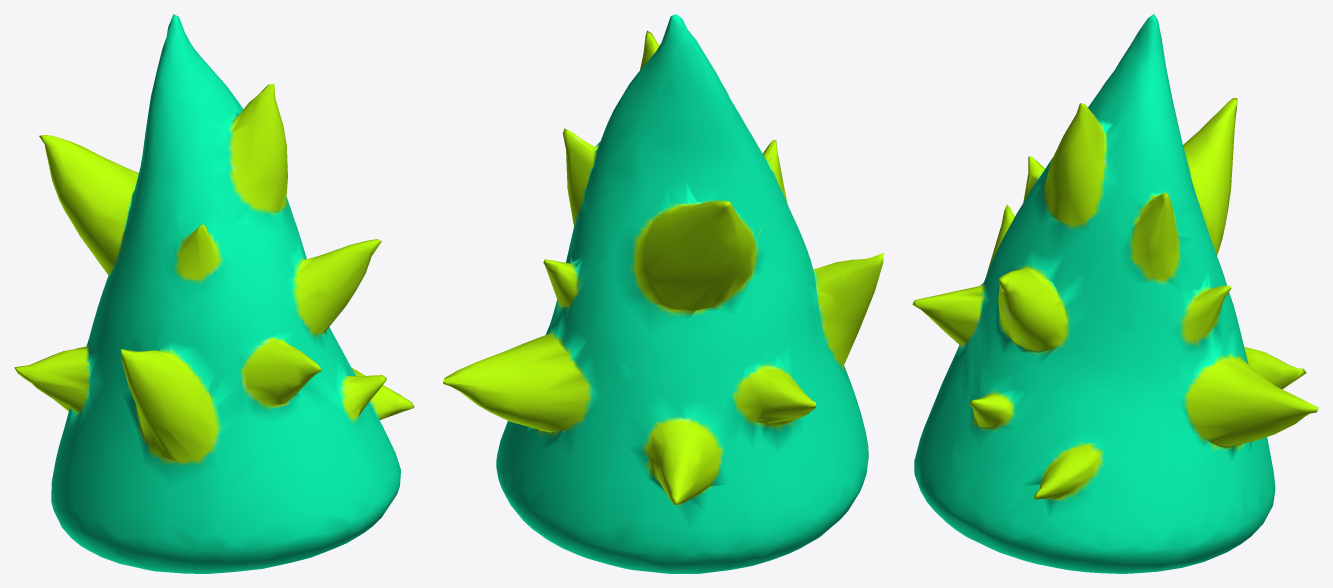
File: Spike.fbx
3 renders of one model, left to right at view 1: azimuth 30°, elevation 25°; view 2: azimuth 150°, elevation 25°; view 3: azimuth 270°, elevation 25°, orthographic. The views are drawn at different scales.
Parts seen in each view (by area): view 1: Layer_1; view 2: Layer_1; view 3: Layer_1.
Part boxes in pixels (x1,y1,x2,y2): Layer_1: [14, 14, 414, 573]; Layer_1: [443, 14, 883, 573]; Layer_1: [912, 14, 1318, 573].
Size of the model in its own units: 0.604 by 0.6461 by 0.9198.
